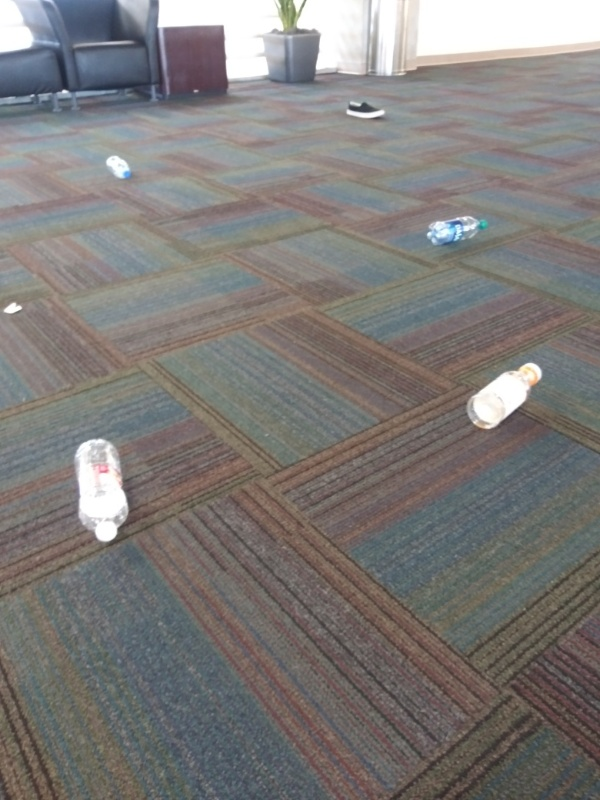bottle: (67, 438, 130, 546), (463, 360, 549, 433), (419, 212, 492, 249), (103, 150, 135, 184)
